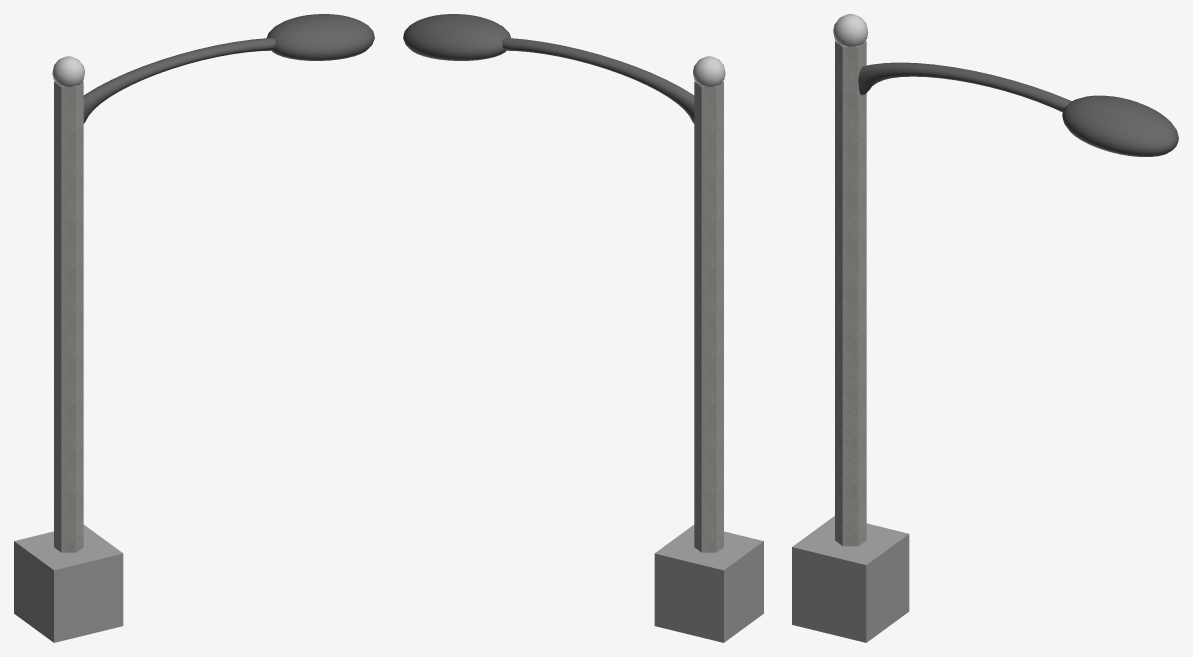
File: StreetLamp.obj
3 views of the same model, side by side, from view 1: azimuth 30°, elevation 25°; view 2: azimuth 150°, elevation 25°; view 3: azimuth 330°, elevation 25° (orthographic). The views are drawn at different scales.
Visible parts, largest first — view 1: Pole_Cylinder, Cube, LightPart_Sphere, Torus.001, Sphere_Sphere.001; view 2: Pole_Cylinder, Cube, LightPart_Sphere, Torus.001, Sphere_Sphere.001; view 3: Pole_Cylinder, Cube, LightPart_Sphere, Torus.001, Sphere_Sphere.001.
Boxes of the visible parts, box(x1,y1,x2,y2) form: Pole_Cylinder: box(54, 81, 83, 552); Cube: box(14, 525, 123, 642); LightPart_Sphere: box(267, 14, 374, 60); Torus.001: box(83, 38, 275, 123); Sphere_Sphere.001: box(52, 56, 84, 86); Pole_Cylinder: box(694, 81, 723, 552); Cube: box(654, 525, 763, 642); LightPart_Sphere: box(403, 14, 510, 60); Torus.001: box(502, 38, 694, 123); Sphere_Sphere.001: box(693, 56, 725, 86); Pole_Cylinder: box(835, 40, 866, 546); Cube: box(792, 516, 909, 642); LightPart_Sphere: box(1062, 95, 1178, 156); Torus.001: box(858, 62, 1071, 112); Sphere_Sphere.001: box(833, 14, 868, 46).
Size of the model in its own units: 9.72 by 15.49 by 2.
